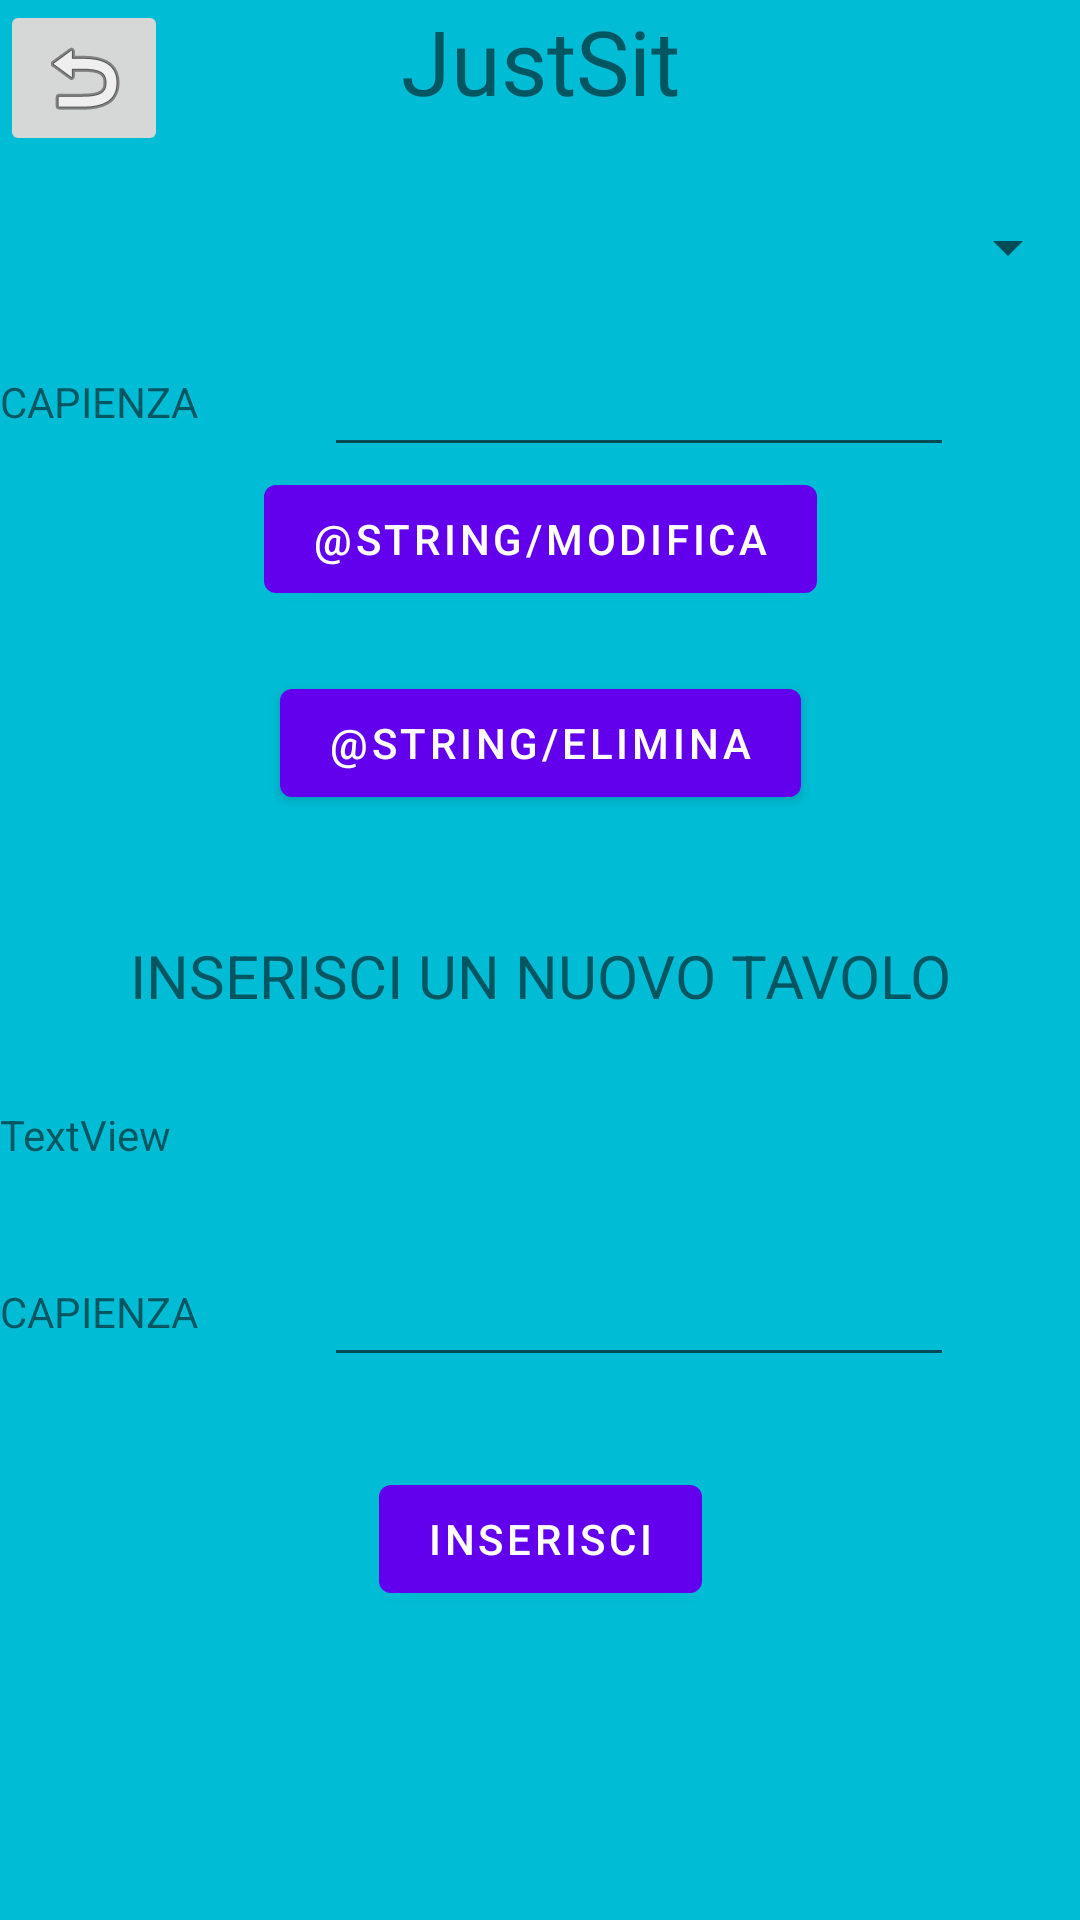

Named icons in this screenshot (1080 x 1920) and their centers, point (x, y):
revert: point (84, 78)
